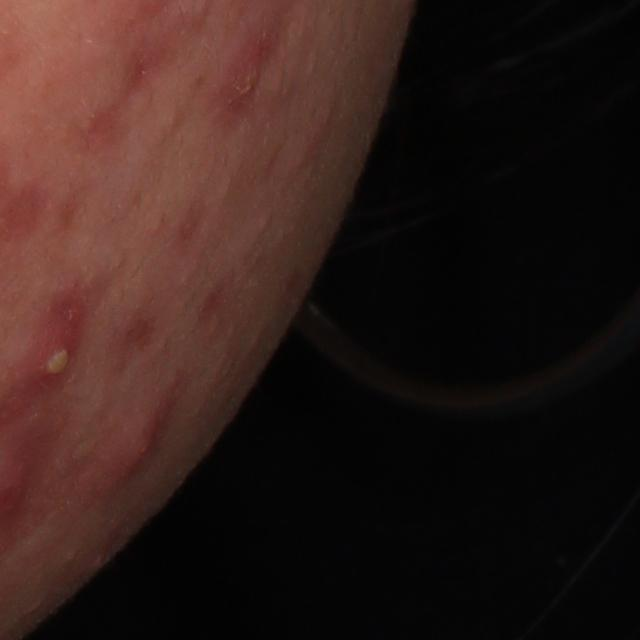papule: (95, 393, 175, 496), (208, 15, 277, 123)
